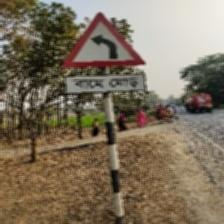Left-Turn: (60, 12, 147, 96)
